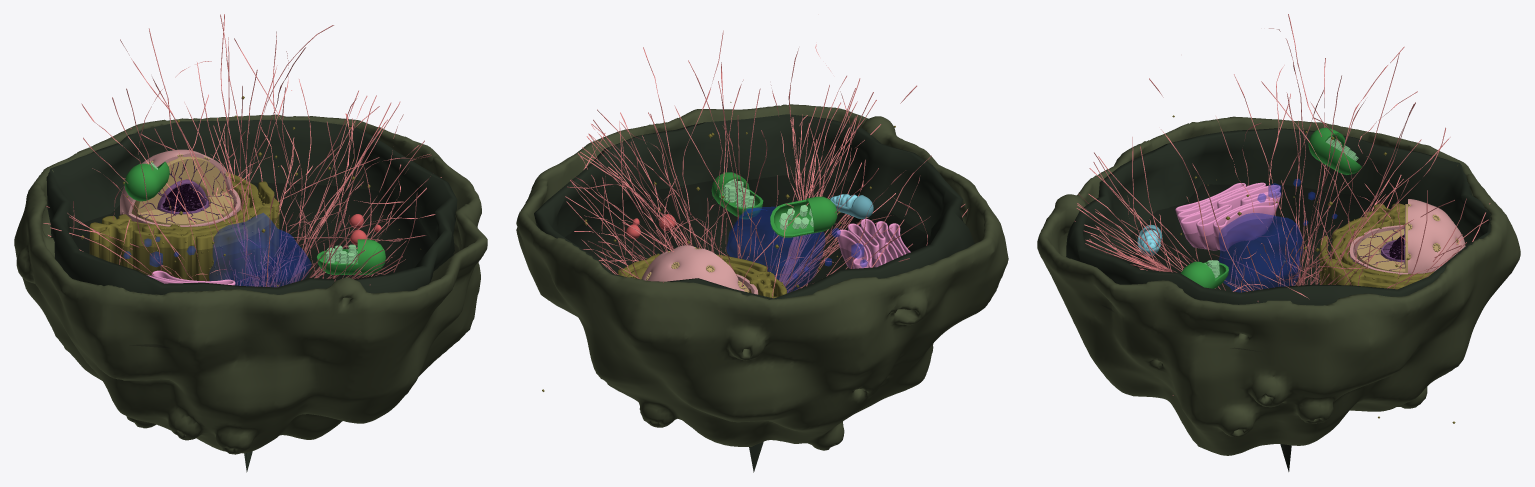
The model's file is plant_cell.glb.
The picture shows the model from 3 angles, left to right: view 1: azimuth 30°, elevation 25°; view 2: azimuth 150°, elevation 25°; view 3: azimuth 270°, elevation 25°; orthographic projection. The views are drawn at different scales.
Parts seen in each view (by area): view 1: cell_wall_Mat_0, lipid_bilayer_Mat_0, cytoskeleton_Mat.1_0, Disc_glass_0, floating_ribosomes_Mat.1_0, vacuoles_Mat_0, Nucleus_2_Mat.1_0, Boole_Mat.1_0, Icosphere_Mat.1_0, Nucleolus_2_Mat.1_0, chromatin_Mat.1_0, shell_Mat.1_0 (+1 smaller); view 2: cell_wall_Mat_0, lipid_bilayer_Mat_0, cytoskeleton_Mat.1_0, Disc_glass_0, vacuoles_Mat_0, Boole_Mat.1_0, Icosphere_Mat.1_0, golgi_Mat.1_0, floating_ribosomes_Mat.1_0, Cloner_Mat.1_0, Sphere_002_Mat.2_0; view 3: cell_wall_Mat_0, lipid_bilayer_Mat_0, cytoskeleton_Mat.1_0, Disc_glass_0, vacuoles_Mat_0, golgi_Mat.1_0, floating_ribosomes_Mat.1_0, Icosphere_Mat.1_0, Boole_Mat.1_0, Nucleus_2_Mat.1_0.
Boxes of the visible parts, <box> form: cell_wall_Mat_0: <box>14,114,487,454</box>; lipid_bilayer_Mat_0: <box>46,120,457,472</box>; cytoskeleton_Mat.1_0: <box>43,14,441,286</box>; Disc_glass_0: <box>73,183,458,347</box>; floating_ribosomes_Mat.1_0: <box>80,96,420,286</box>; vacuoles_Mat_0: <box>123,213,311,286</box>; Nucleus_2_Mat.1_0: <box>131,156,233,225</box>; Boole_Mat.1_0: <box>124,161,385,274</box>; Icosphere_Mat.1_0: <box>120,149,240,226</box>; Nucleolus_2_Mat.1_0: <box>162,184,201,211</box>; chromatin_Mat.1_0: <box>139,159,232,223</box>; shell_Mat.1_0: <box>157,179,209,214</box>; cell_wall_Mat_0: <box>516,104,1008,450</box>; lipid_bilayer_Mat_0: <box>534,114,974,472</box>; cytoskeleton_Mat.1_0: <box>565,30,967,297</box>; Disc_glass_0: <box>565,174,928,296</box>; vacuoles_Mat_0: <box>726,207,867,292</box>; Boole_Mat.1_0: <box>711,172,837,237</box>; Icosphere_Mat.1_0: <box>641,245,758,294</box>; golgi_Mat.1_0: <box>836,219,910,268</box>; floating_ribosomes_Mat.1_0: <box>542,102,895,391</box>; Cloner_Mat.1_0: <box>722,179,813,230</box>; Sphere_002_Mat.2_0: <box>830,195,873,218</box>; cell_wall_Mat_0: <box>1037,116,1520,455</box>; lipid_bilayer_Mat_0: <box>1066,128,1490,471</box>; cytoskeleton_Mat.1_0: <box>1074,14,1490,395</box>; Disc_glass_0: <box>1102,184,1403,350</box>; vacuoles_Mat_0: <box>1218,179,1337,292</box>; golgi_Mat.1_0: <box>1175,182,1281,250</box>; floating_ribosomes_Mat.1_0: <box>1172,115,1455,423</box>; Icosphere_Mat.1_0: <box>1350,199,1465,275</box>; Boole_Mat.1_0: <box>1180,127,1361,288</box>; Nucleus_2_Mat.1_0: <box>1357,204,1438,272</box>.
Bounding box in the file's own units: 8.63 × 8.62 × 8.94.
